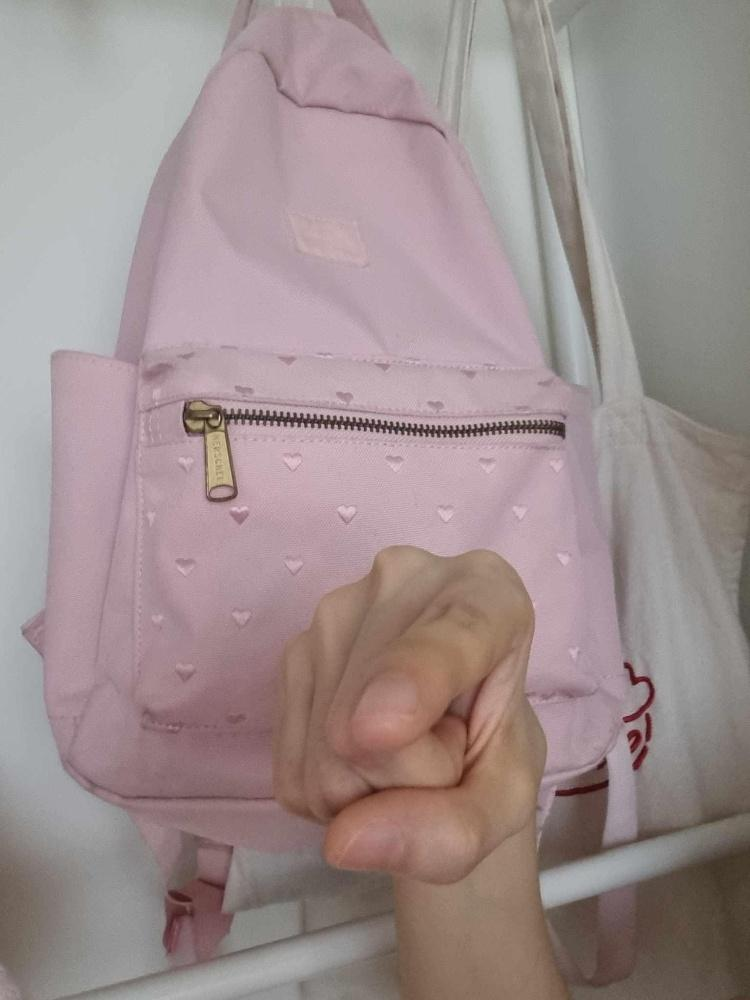z: (274, 542, 549, 883)
